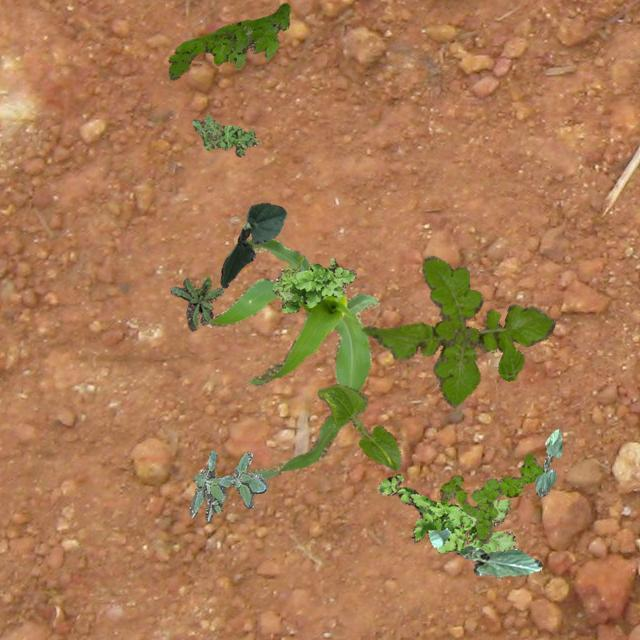crop: (205, 238, 378, 478), (316, 382, 401, 470), (426, 526, 542, 576), (220, 202, 286, 286), (534, 428, 562, 496)
weed: (360, 254, 554, 406), (376, 472, 514, 552), (438, 452, 544, 542), (168, 1, 288, 78), (188, 450, 268, 520), (272, 256, 354, 312), (170, 276, 222, 330), (190, 114, 256, 156)
